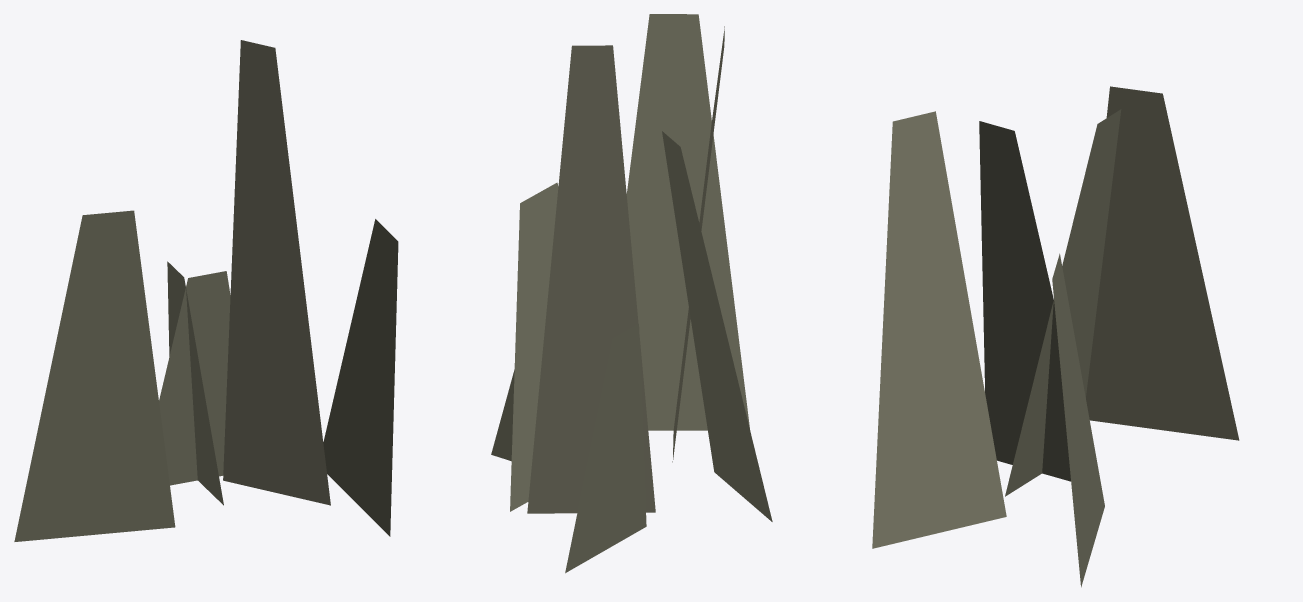
File: cao.jue@subadult__winter.glb
3 renders of one model, left to right at view 1: azimuth 30°, elevation 25°; view 2: azimuth 150°, elevation 25°; view 3: azimuth 270°, elevation 25°, orthographic. The views are drawn at different scales.
Parts seen in each view (by area): view 1: cao.jue@subadult__winter; view 2: cao.jue@subadult__winter; view 3: cao.jue@subadult__winter.
Part boxes in pixels (box(x1,y1,x2,y2)): cao.jue@subadult__winter: box(14, 40, 398, 541); cao.jue@subadult__winter: box(491, 14, 772, 573); cao.jue@subadult__winter: box(872, 86, 1239, 587).
Size of the model in its own units: 0.5312 by 0.6252 by 0.4835.
